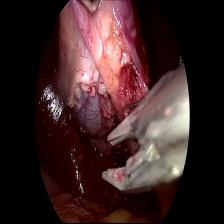Clipper: (100, 58, 188, 196)
